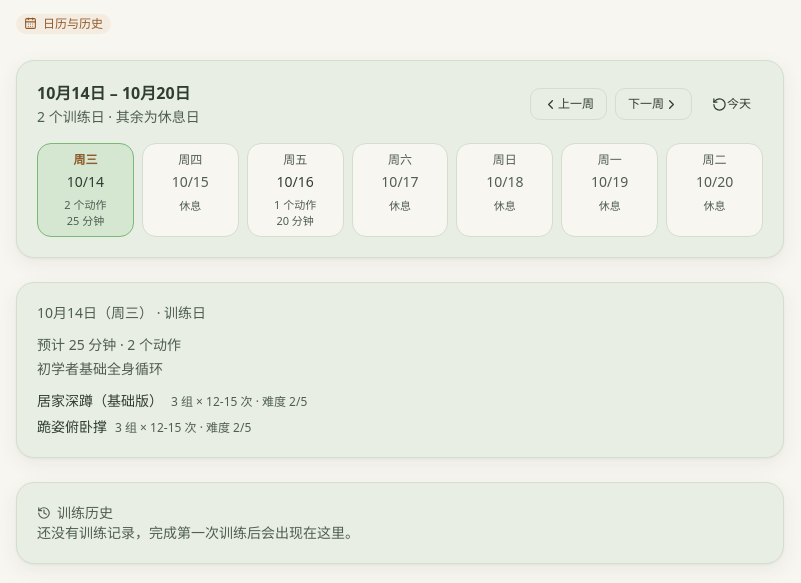
Test case: CalendarPage › switches the selected day to a rest day detail
The width and height of the screenshot is (801, 583).
Click the button with aria-label "休息日": (190,190) [142,143,239,236]
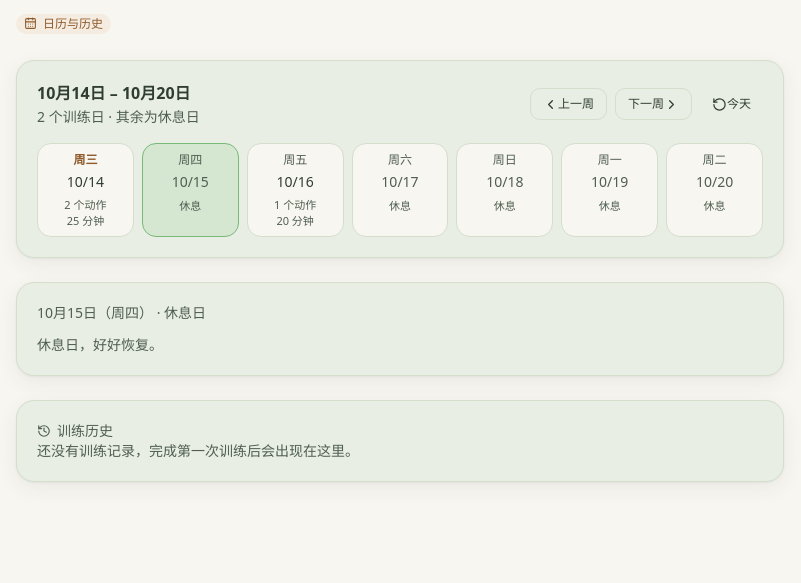
Expected: the text "休息日，好好恢复。" is shown, [37,334,163,354]
